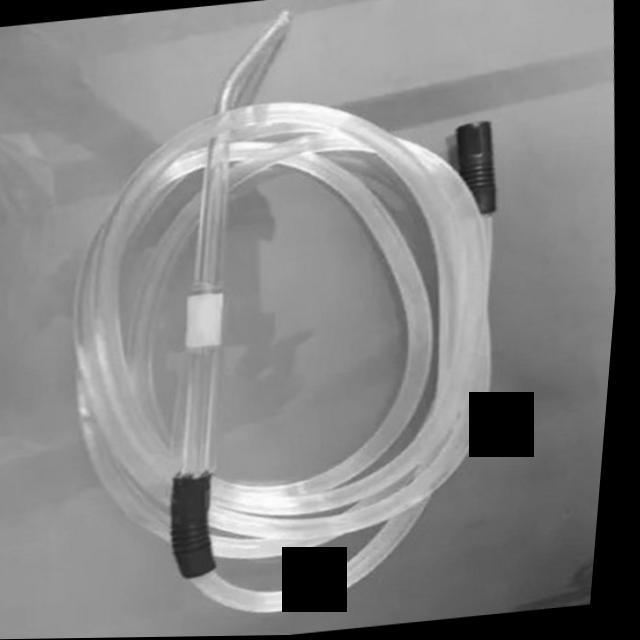Suction Tube Nozzle: (29, 0, 559, 631)
